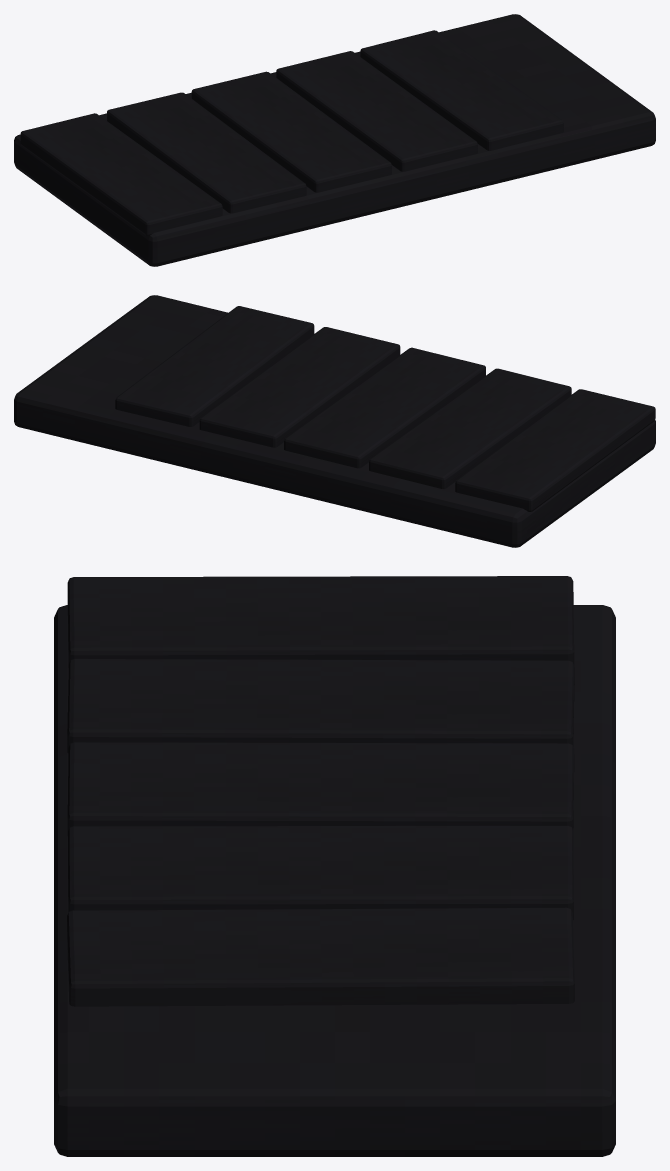
Rendered from prop_town_roof_plank_small.glb.
The picture shows the model from 3 angles, top to bottom: view 1: azimuth 30°, elevation 25°; view 2: azimuth 150°, elevation 25°; view 3: azimuth 270°, elevation 25°; orthographic projection. The views are drawn at different scales.
Parts seen in each view (by area): view 1: slate; view 2: slate; view 3: slate.
Part boxes in pixels (box(x1,y1,x2,y2)): slate: box(14, 14, 655, 266); slate: box(14, 295, 655, 547); slate: box(54, 576, 615, 1156).
Size of the model in its own units: 2.51 by 0.215 by 1.2.
1 material, 1 textured.
